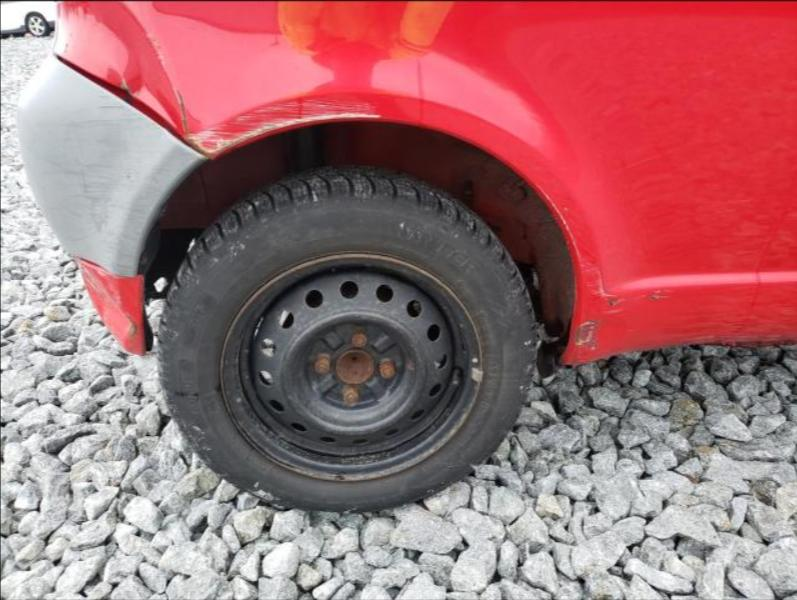Broken part: (51, 52, 209, 162)
Corrosion: (172, 87, 215, 158), (574, 318, 600, 349), (117, 75, 136, 99), (124, 311, 137, 340), (647, 288, 666, 303), (604, 296, 617, 309)
Dent: (99, 20, 188, 139), (83, 266, 140, 349), (78, 259, 122, 310)
Missing part: (222, 251, 479, 479)
Scratch: (177, 97, 379, 158), (547, 193, 633, 319), (81, 263, 128, 318), (572, 318, 602, 356), (649, 291, 672, 302)
